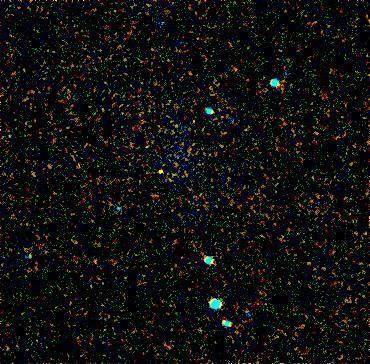star: (146, 156, 176, 186)
